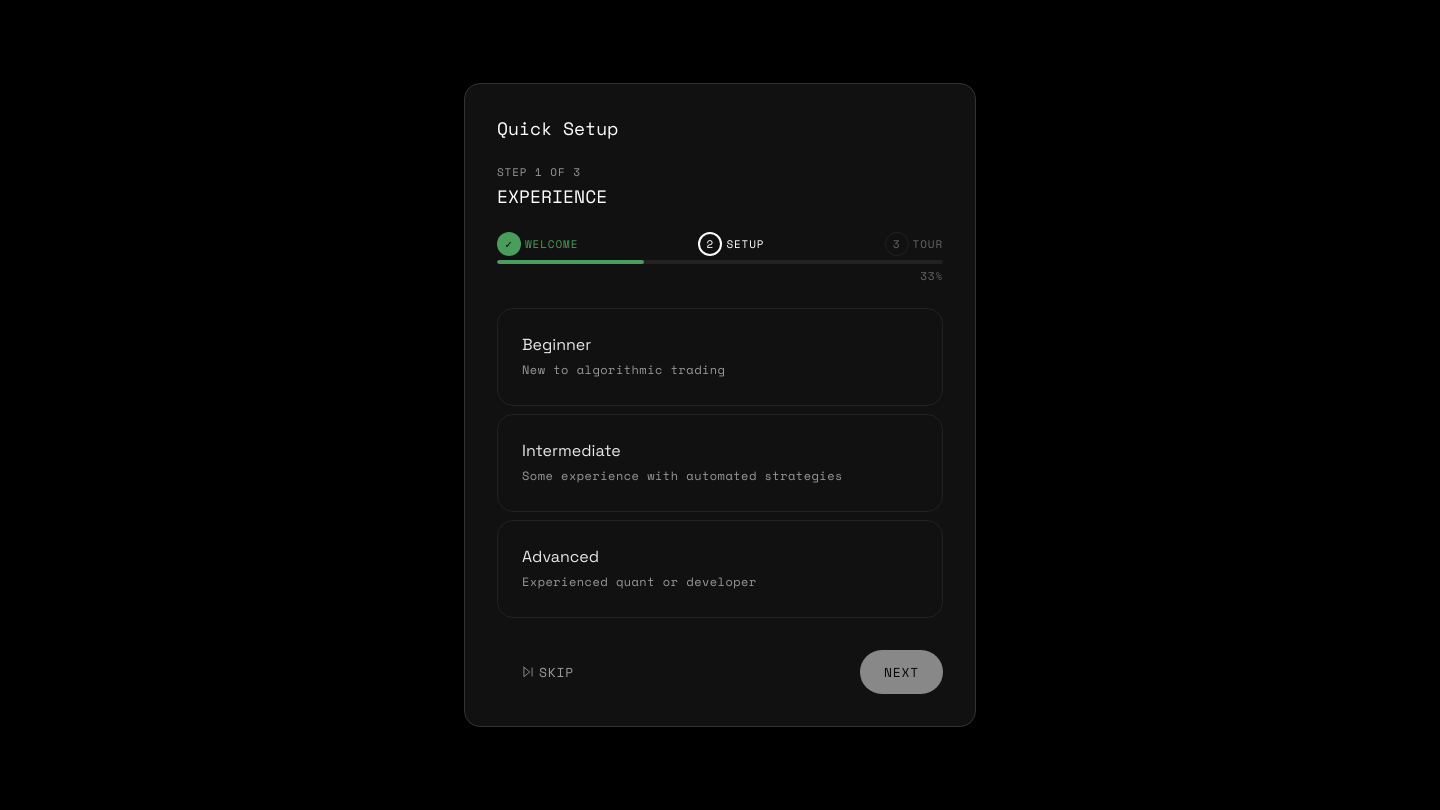
Test: SetupWizard › enables next button after selecting experience
Click the text "Beginner" at (557, 344), box [522, 334, 591, 355]
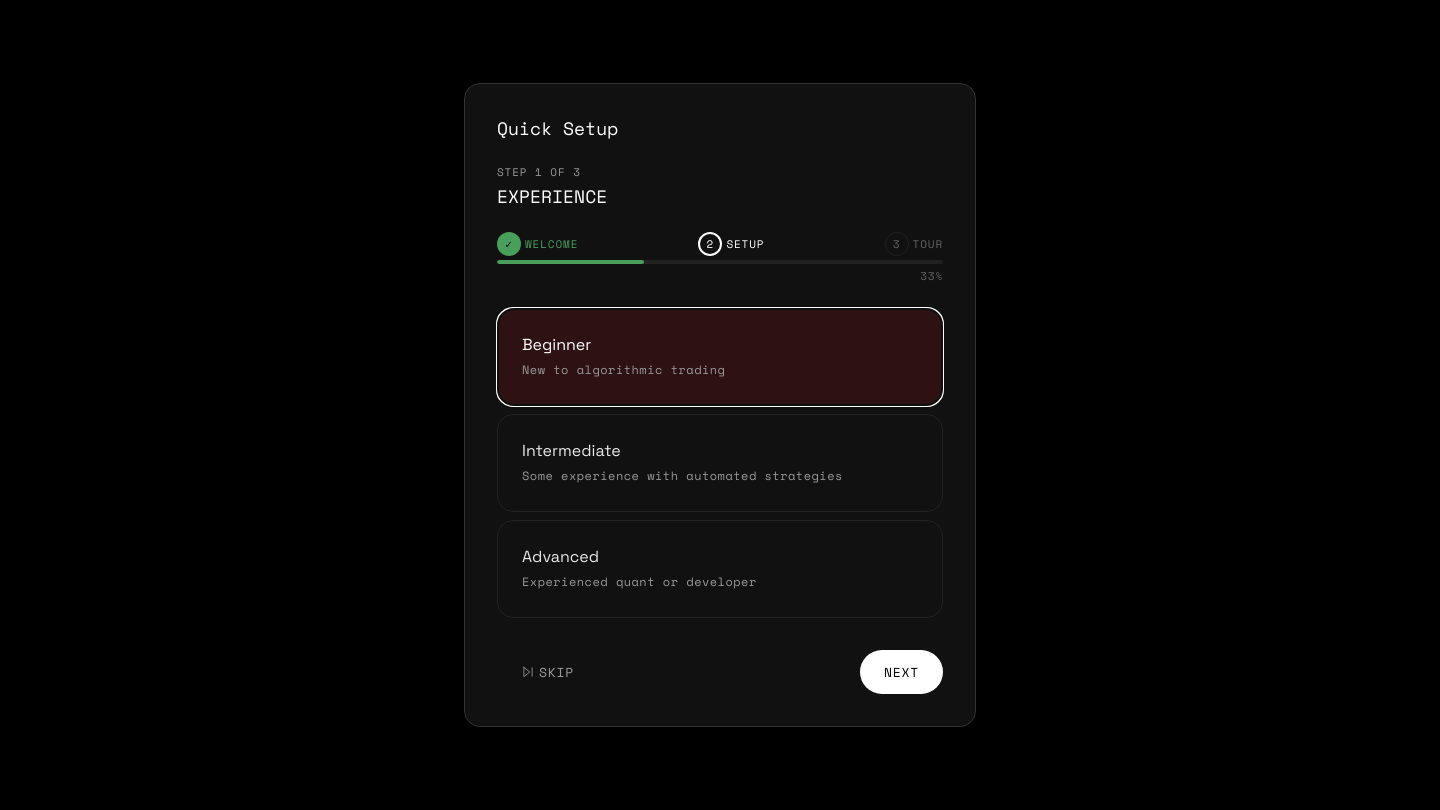
Expected: the button "NEXT" is enabled, [860, 650, 943, 694]
